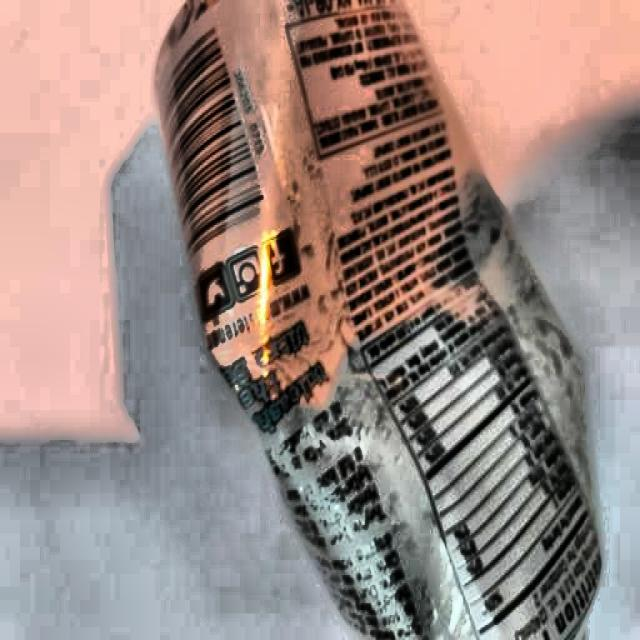metal: (146, 0, 605, 640)
